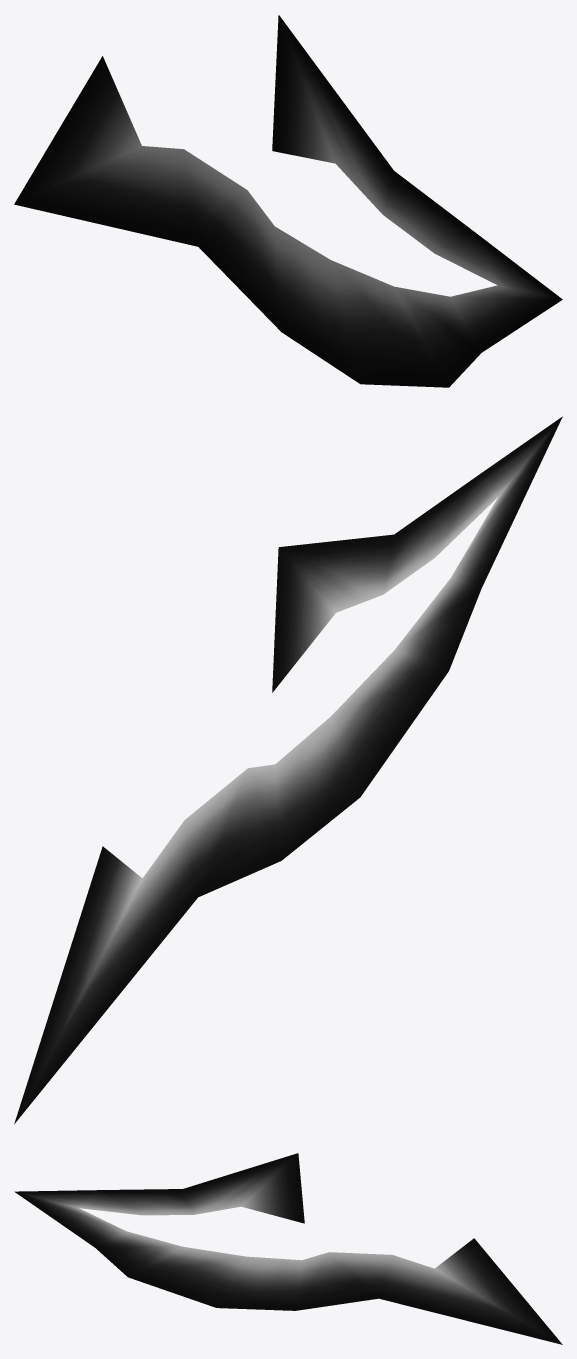
Rendered from yinxinzhiren001_FX01.fbx.
3 renders of one model, top to bottom at view 1: azimuth 30°, elevation 25°; view 2: azimuth 150°, elevation 25°; view 3: azimuth 270°, elevation 25°, orthographic. The views are drawn at different scales.
Parts seen in each view (by area): view 1: yinxinzhiren001_FX01; view 2: yinxinzhiren001_FX01; view 3: yinxinzhiren001_FX01.
Boxes of the visible parts, x1,y1,x2,y2 form: yinxinzhiren001_FX01: (14,15,562,387); yinxinzhiren001_FX01: (14,416,562,1124); yinxinzhiren001_FX01: (14,1153,562,1344).
Bounding box in the file's own units: 0.0838 × 124 × 321.
